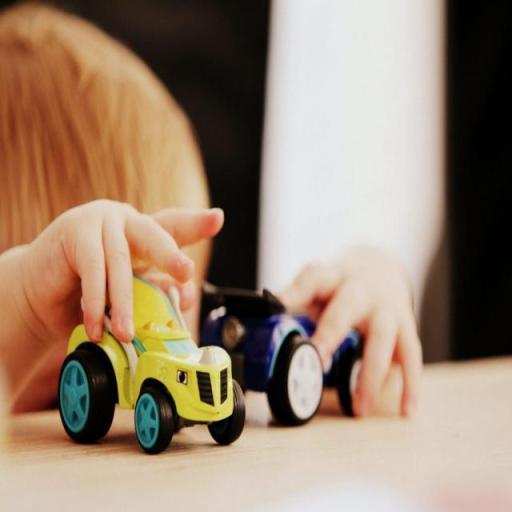baby: (0, 5, 223, 410)
